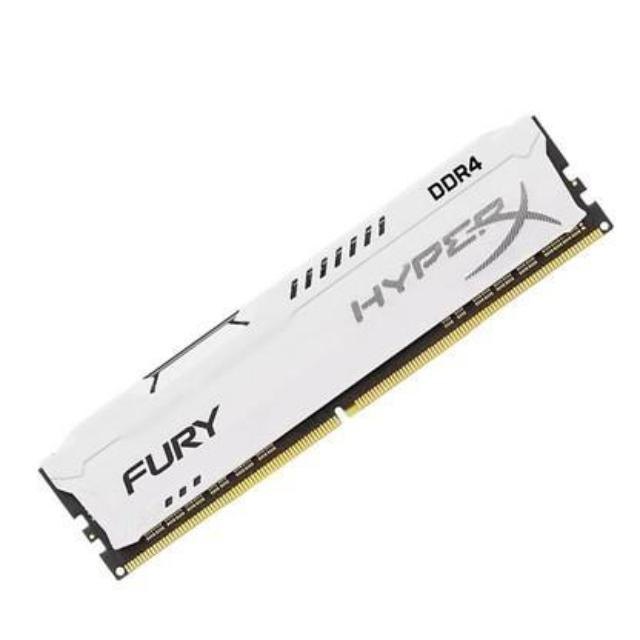RAM: (31, 110, 614, 592)
